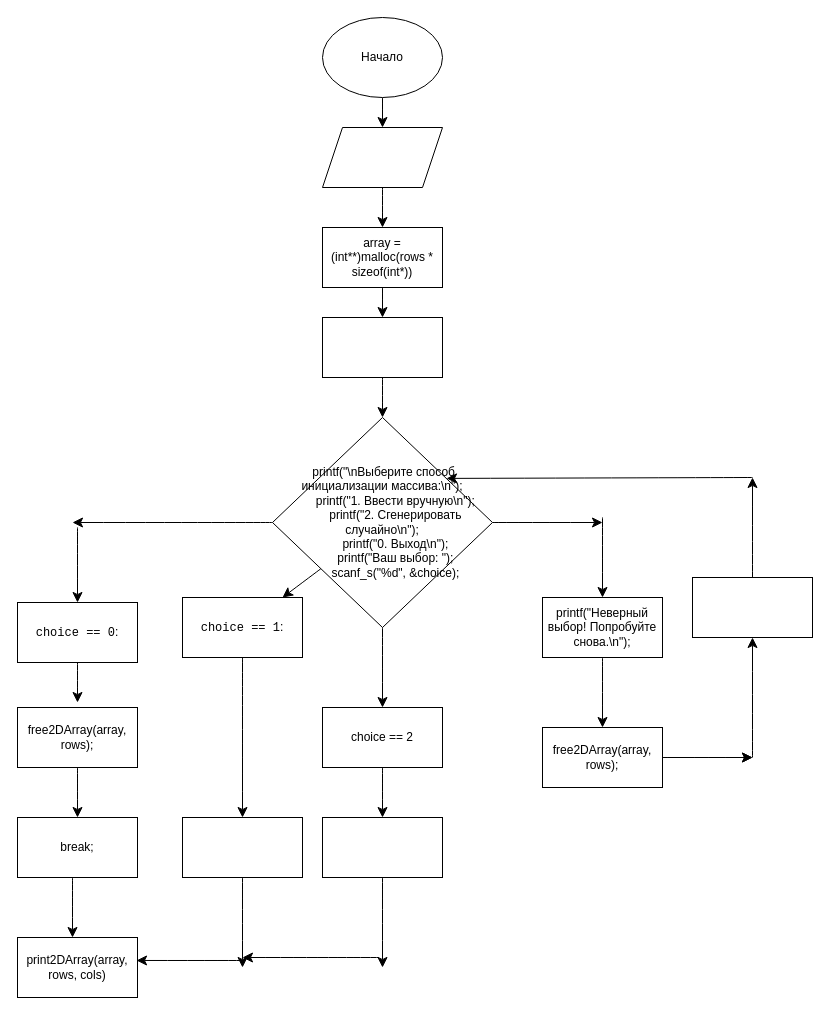
The diagram is 830 pixels wide and 1015 high, and some of its shapes have lost their labels. The shapes that lost their labels are listed below. From the top down, each one's centre as x and y in pixels, then its label:
point 382,157: int rows, cols, k, choice, ** array;
point 382,347: array[i] = (int*)malloc(cols * sizeof(int))
point 752,607: continue;
point 242,847: input2DArray(&array, &rows, &cols);
point 382,847: initialize_random(array, rows, cols);
